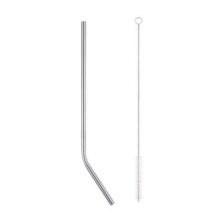drinking_straw: (73, 16, 119, 210)
